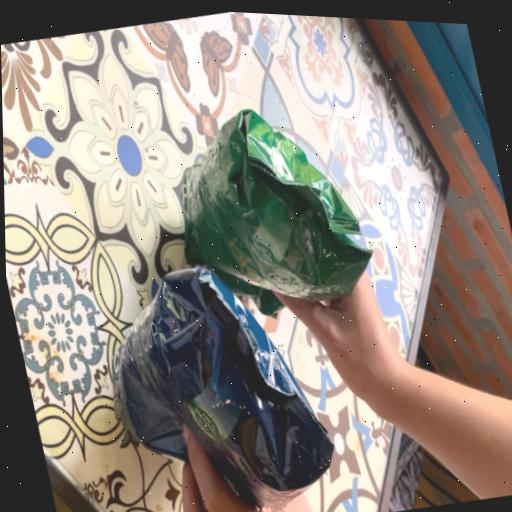cafe_hat: (111, 267, 333, 507)
cafe_xay: (181, 109, 371, 315)
